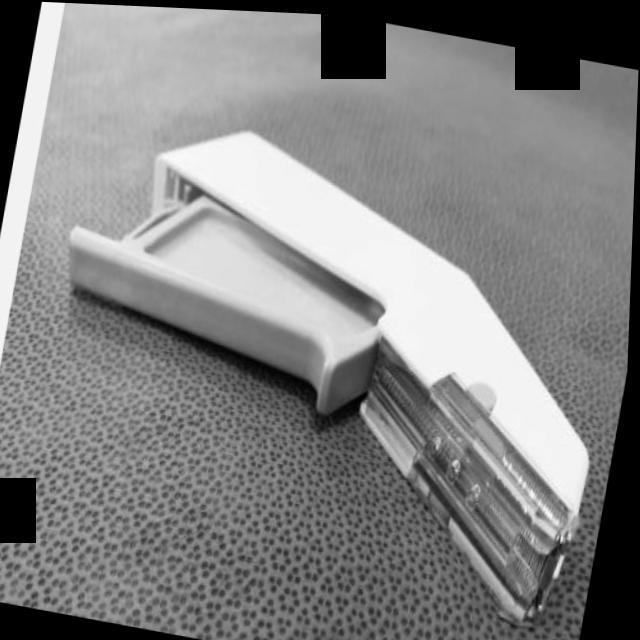Skin Stapler: (12, 85, 638, 635)
